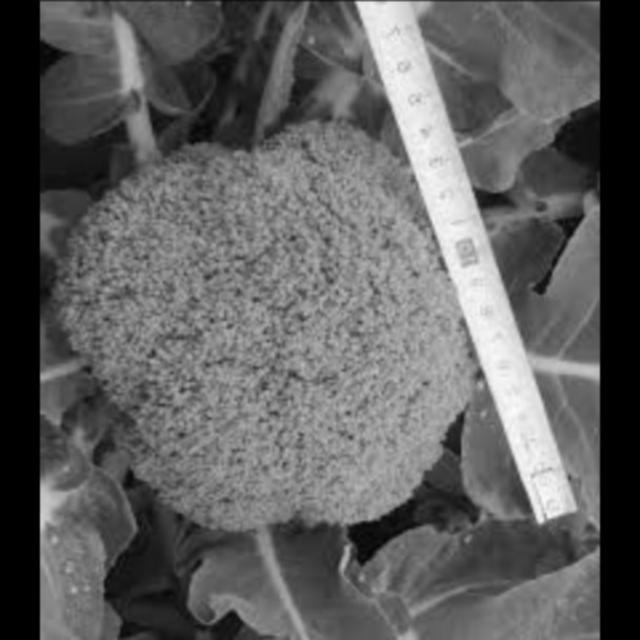bong cai xanh: (66, 101, 490, 579)
